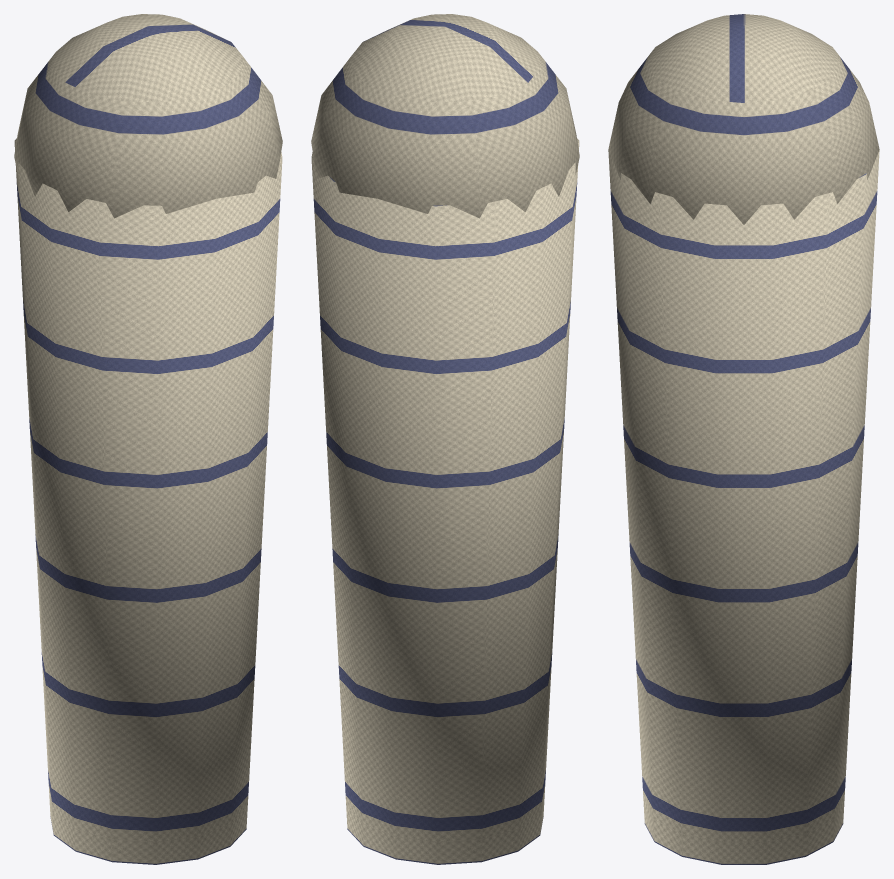
Rendered from muslo.obj.
3 renders of one model, left to right at view 1: azimuth 30°, elevation 25°; view 2: azimuth 150°, elevation 25°; view 3: azimuth 270°, elevation 25°, orthographic.
Parts seen in each view (by area): view 1: muslo; view 2: muslo; view 3: muslo.
Boxes of the visible parts, <box> form: muslo: <box>14,14,282,864</box>; muslo: <box>311,14,579,864</box>; muslo: <box>608,14,879,864</box>.
Size of the model in its own units: 0.164 by 0.532 by 0.164.
Materials: 1 (1 with a texture image).
